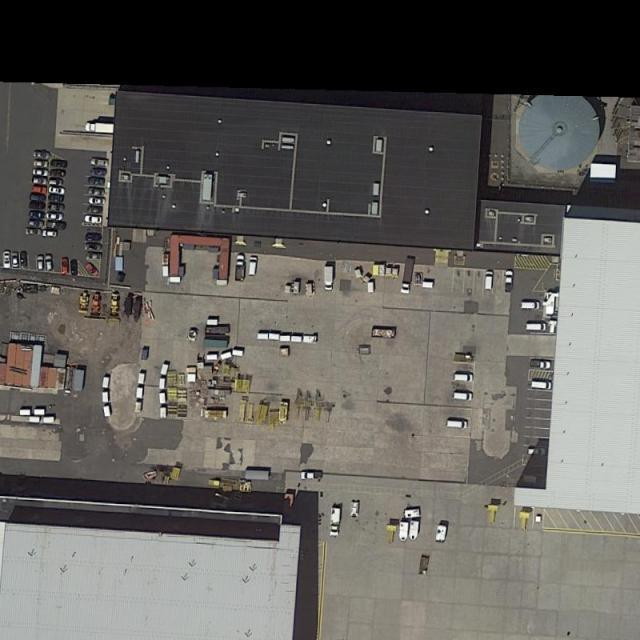vehicle: (401, 255, 414, 293), (85, 122, 115, 134), (330, 508, 341, 538), (85, 262, 102, 280), (235, 255, 246, 282), (529, 358, 551, 370), (248, 255, 260, 276), (324, 266, 334, 290), (532, 380, 554, 390), (446, 420, 470, 429), (47, 219, 66, 230), (454, 391, 474, 401), (86, 204, 106, 214), (300, 471, 324, 479), (32, 167, 49, 178), (454, 373, 474, 382), (85, 214, 105, 223), (506, 271, 514, 293), (485, 271, 494, 290), (36, 256, 46, 273), (33, 150, 50, 160), (89, 176, 106, 186), (20, 252, 29, 269), (45, 255, 54, 272), (61, 258, 70, 275), (89, 196, 106, 205), (86, 251, 103, 260), (89, 187, 106, 196), (529, 448, 548, 456), (91, 158, 110, 166), (526, 323, 547, 330), (46, 212, 64, 220), (50, 186, 66, 195), (47, 178, 65, 186), (50, 169, 66, 178), (3, 251, 11, 269), (12, 252, 20, 270), (86, 233, 104, 241), (28, 211, 45, 219), (87, 243, 104, 251), (92, 168, 109, 176), (29, 218, 44, 227), (50, 194, 65, 203), (42, 230, 58, 238), (33, 160, 49, 168), (522, 302, 540, 309), (53, 159, 68, 167), (32, 186, 47, 194), (70, 261, 78, 276), (31, 194, 48, 201), (49, 203, 66, 210), (30, 202, 46, 209), (33, 177, 47, 184), (26, 228, 42, 234)
